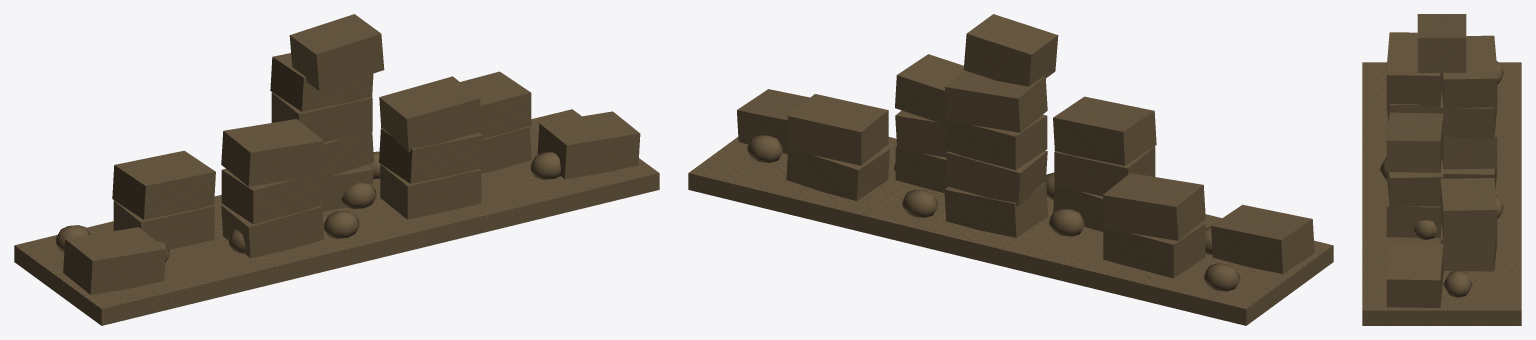
The model's file is brick-rubble.glb.
The picture shows the model from 3 angles, left to right: view 1: azimuth 30°, elevation 25°; view 2: azimuth 150°, elevation 25°; view 3: azimuth 270°, elevation 25°; orthographic projection. The views are drawn at different scales.
Parts seen in each view (by area): view 1: LOD0; view 2: LOD0; view 3: LOD0.
Part boxes in pixels (x1,y1,x2,y2): LOD0: [14, 14, 659, 325]; LOD0: [688, 14, 1333, 325]; LOD0: [1362, 14, 1521, 325].
Size of the model in its own units: 2.4 by 0.8 by 0.65.
Materials: 1 (1 with a texture image).
